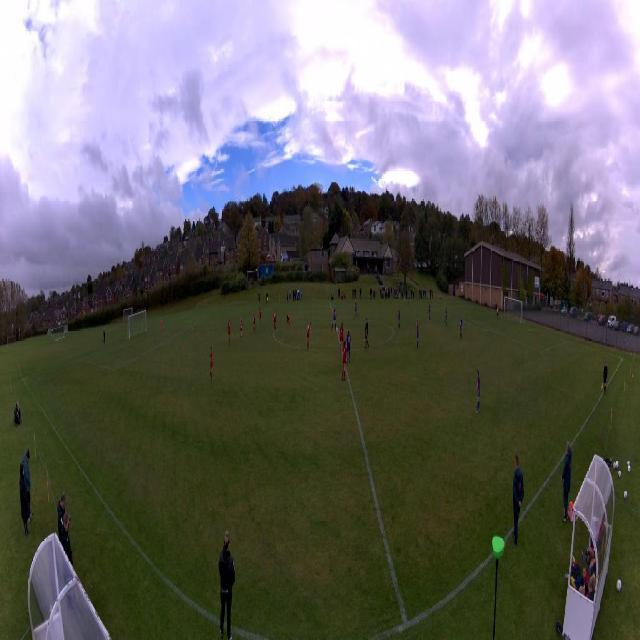ball: (336, 327, 338, 331)
player: (475, 368, 481, 416), (341, 340, 347, 382), (208, 346, 214, 383), (346, 330, 352, 362), (331, 306, 338, 331), (365, 317, 370, 347), (339, 322, 344, 350), (306, 323, 311, 350), (459, 314, 463, 339), (273, 309, 277, 333), (397, 308, 401, 329), (416, 321, 419, 348), (228, 318, 231, 345), (354, 299, 358, 319), (240, 316, 243, 342), (253, 311, 256, 333), (445, 306, 448, 326), (259, 306, 262, 326), (286, 315, 291, 326), (496, 306, 499, 322), (428, 303, 430, 320), (161, 318, 163, 335), (408, 291, 410, 305)
